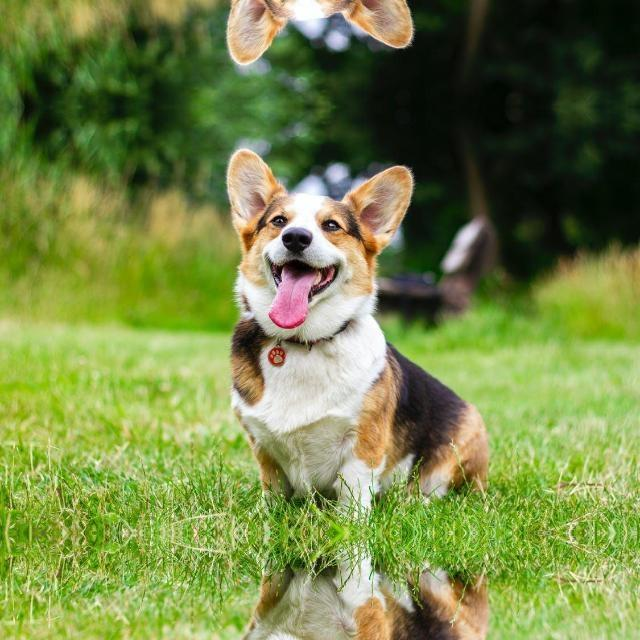dog: (212, 138, 496, 516), (212, 549, 495, 640), (212, 0, 495, 74)
